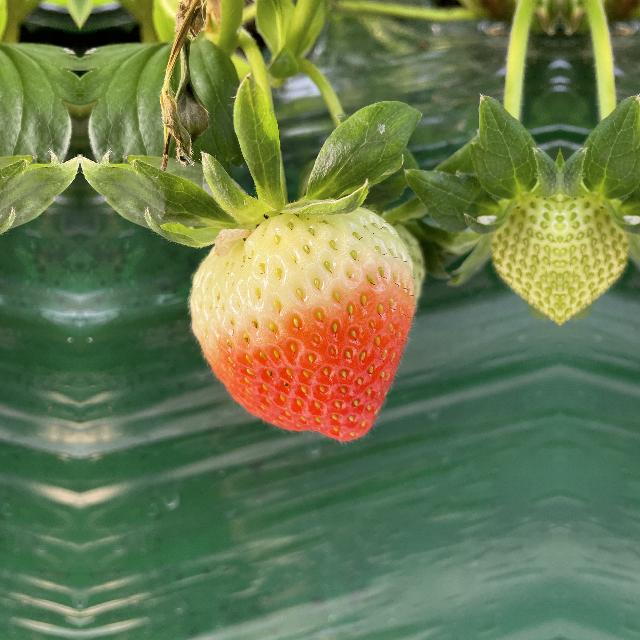Health_25: (482, 188, 560, 330), (560, 188, 638, 330)
Health_75: (186, 201, 424, 447)
